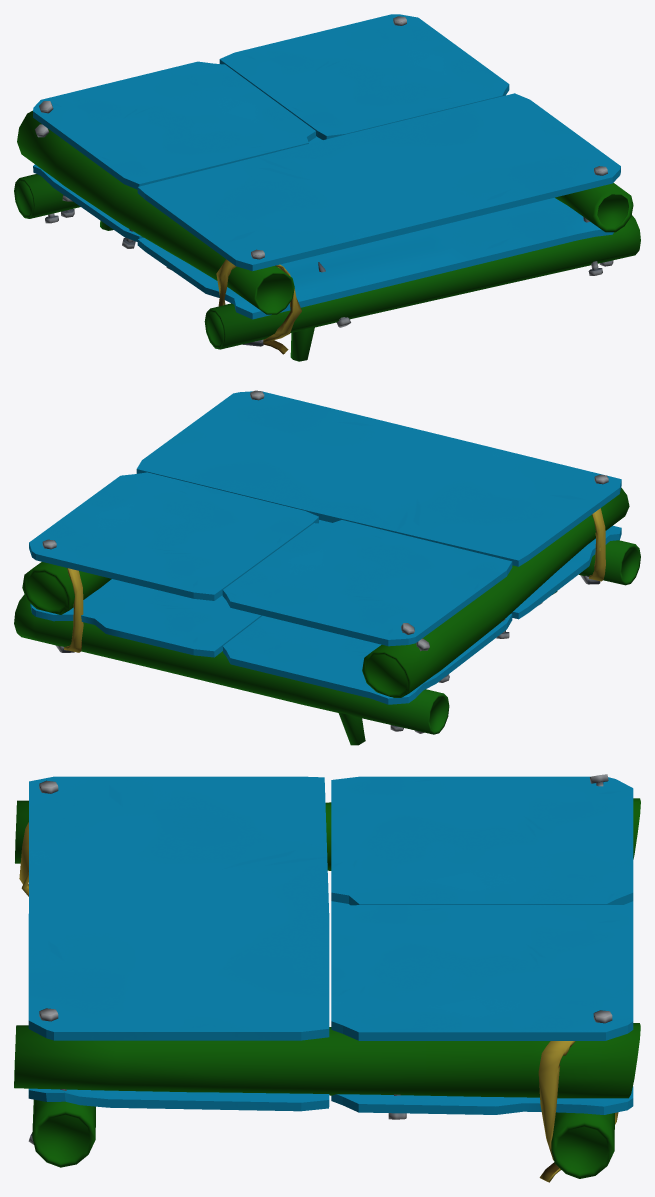
Rendered from RaftFloor.fbx.
3 views of the same model, one above another, from view 1: azimuth 30°, elevation 25°; view 2: azimuth 150°, elevation 25°; view 3: azimuth 270°, elevation 25° (orthographic). The views are drawn at different scales.
Parts seen in each view (by area): view 1: Cube.003; view 2: Cube.003; view 3: Cube.003.
Boxes of the visible parts, left/top/right/bottom form: Cube.003: left=14, top=14, right=640, bottom=361; Cube.003: left=14, top=390, right=640, bottom=745; Cube.003: left=14, top=774, right=640, bottom=1182.
Size of the model in its own units: 6.43 by 2.04 by 6.21.
